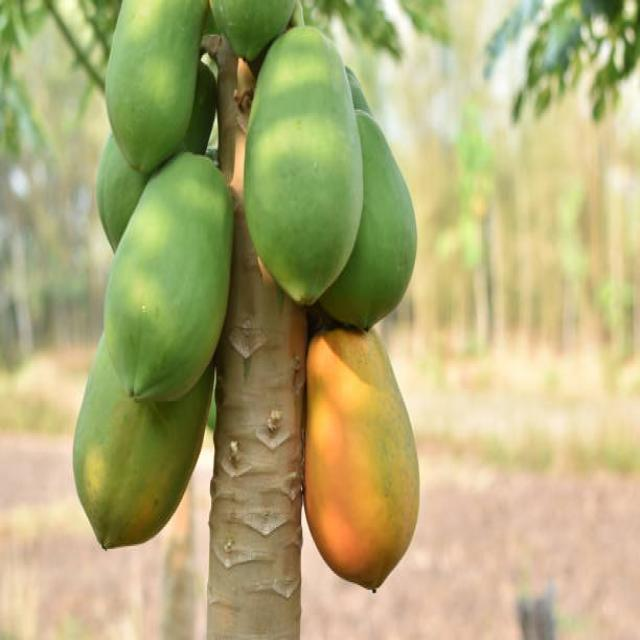Pepaya rippen: (304, 324, 424, 604), (72, 374, 199, 558)
Pepaya unrippen: (109, 171, 252, 404), (240, 30, 370, 279), (100, 1, 222, 179)
